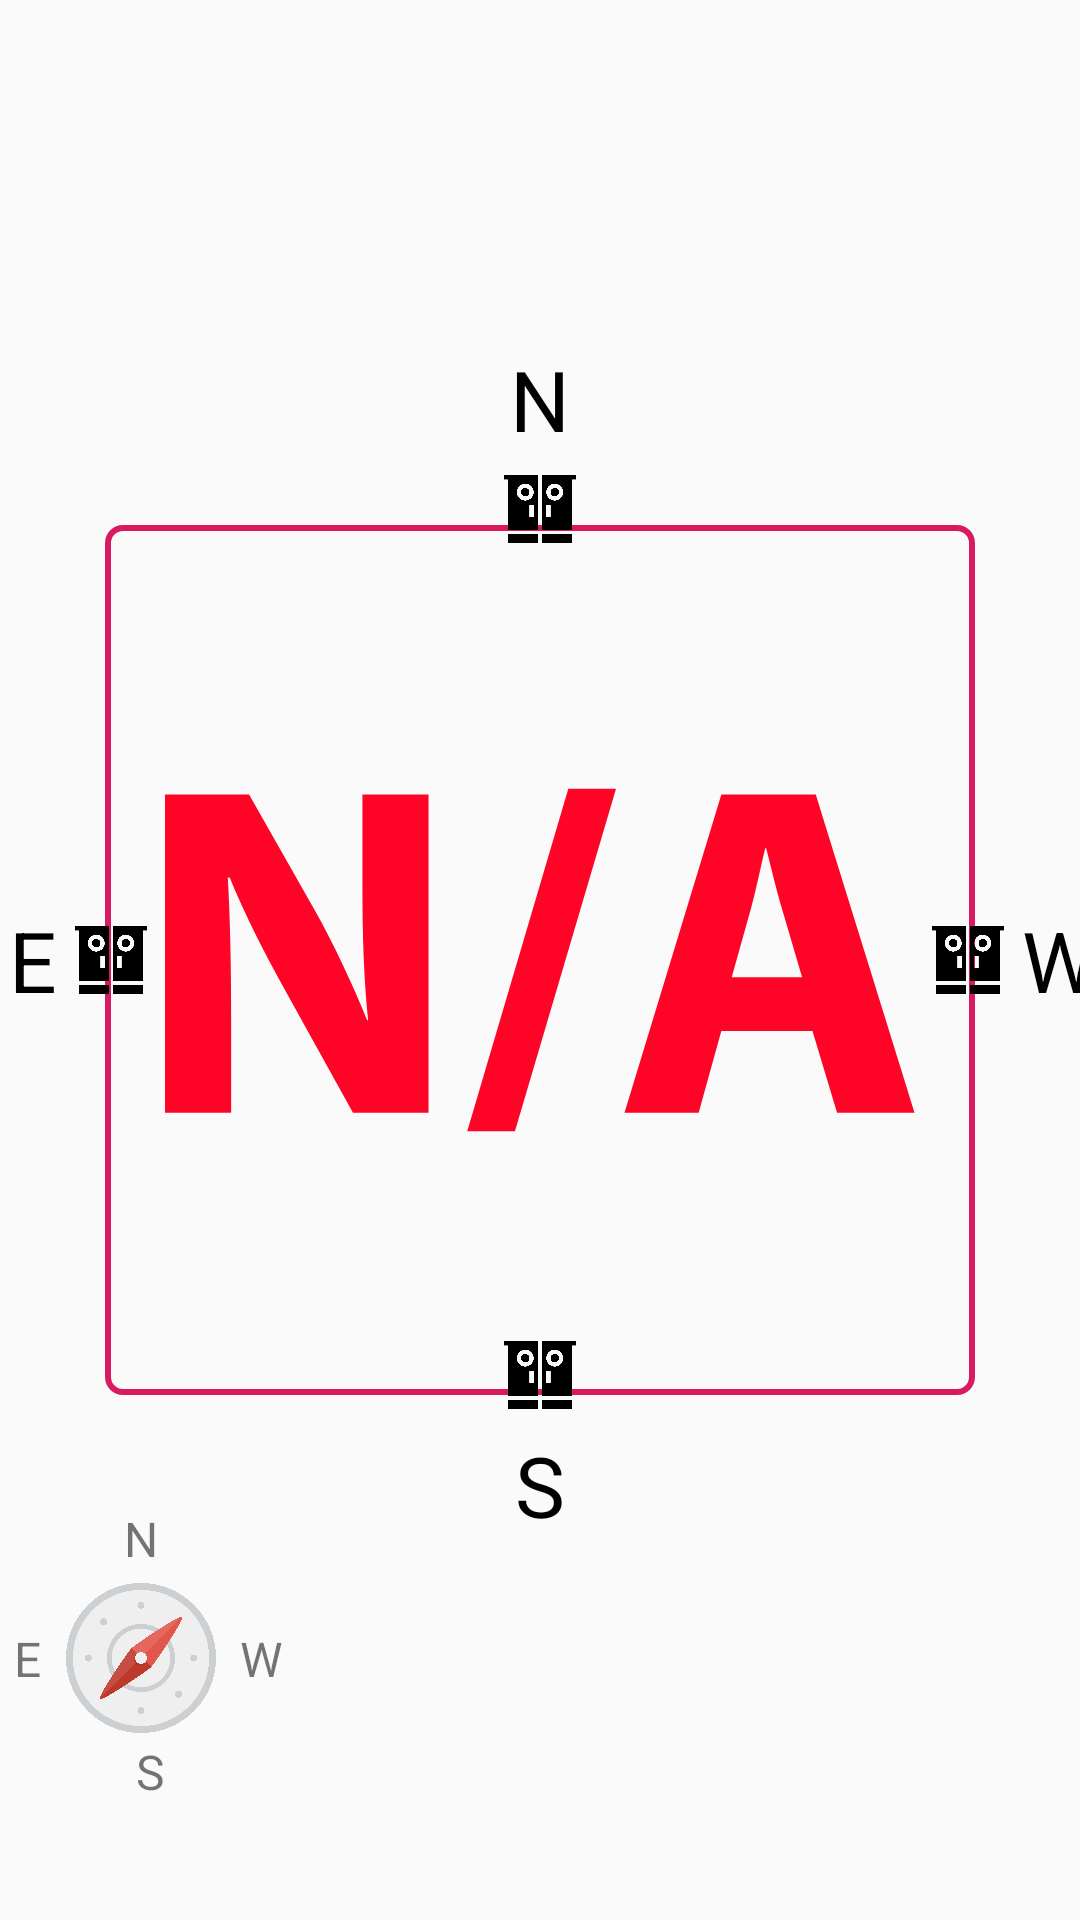

Where to tap for icons on this 1080×1920 app screen, as (x=x, y=y):
compass: (x=141, y=1658)
